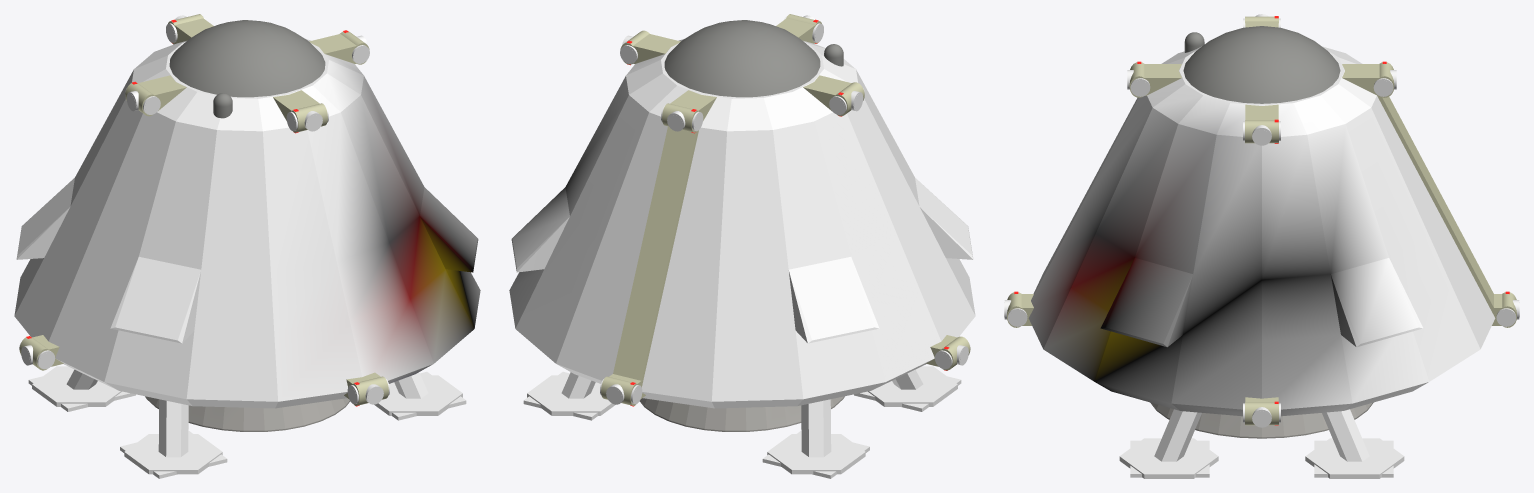
The model's file is Lander MK3.fbx.
The picture shows the model from 3 angles, left to right: view 1: azimuth 30°, elevation 25°; view 2: azimuth 150°, elevation 25°; view 3: azimuth 270°, elevation 25°; orthographic projection.
Parts seen in each view (by area): view 1: pod3, Sphere, PodLegs, Big_Thruster, RCS_Base_6, RCS_Base_7, RCS_Base_3, RCS_Base_2; view 2: pod3, Sphere, PodLegs, Cube, Big_Thruster, RCS_Base_6, RCS_Base_7, RCS_Base_2, RCS_Base_3; view 3: pod3, Sphere, PodLegs, Big_Thruster, Cube, RCS_Base_2, RCS_Base_3, RCS_Base_6.
Part boxes in pixels (x1,y1,x2,y2): pod3: [14, 39, 480, 408]; Sphere: [169, 20, 325, 97]; PodLegs: [32, 366, 462, 474]; Big_Thruster: [145, 396, 350, 431]; RCS_Base_6: [309, 34, 356, 63]; RCS_Base_7: [138, 75, 186, 110]; RCS_Base_3: [273, 90, 319, 120]; RCS_Base_2: [175, 18, 213, 43]; pod3: [509, 39, 975, 408]; Sphere: [664, 20, 820, 97]; PodLegs: [527, 366, 957, 474]; Cube: [613, 126, 698, 380]; Big_Thruster: [639, 396, 844, 431]; RCS_Base_6: [633, 34, 680, 63]; RCS_Base_7: [803, 75, 851, 110]; RCS_Base_2: [670, 90, 716, 120]; RCS_Base_3: [776, 18, 814, 43]; pod3: [1028, 46, 1495, 416]; Sphere: [1183, 26, 1340, 103]; PodLegs: [1119, 409, 1404, 478]; Big_Thruster: [1150, 402, 1373, 438]; Cube: [1377, 96, 1493, 307]; RCS_Base_2: [1342, 64, 1379, 95]; RCS_Base_3: [1144, 64, 1181, 95]; RCS_Base_6: [1245, 104, 1278, 120].
Size of the model in its own units: 1300 by 1023 by 1300.
